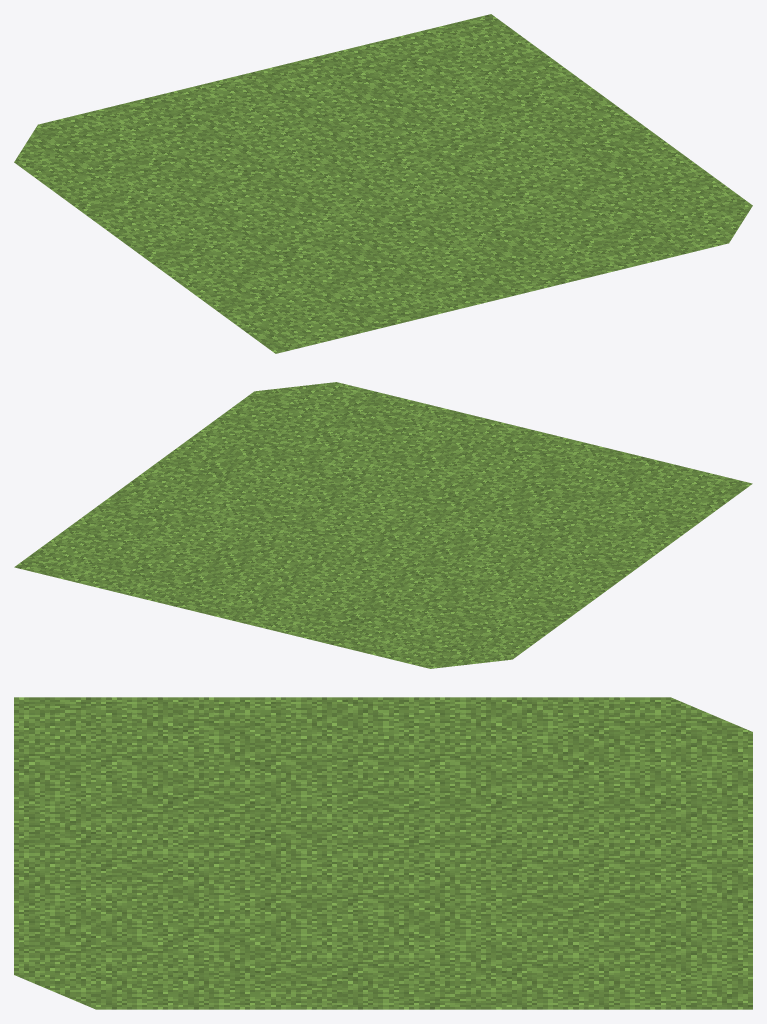
The model's file is Grass_Block_Chunk_51_6.fbx.
The picture shows the model from 3 angles, top to bottom: view 1: azimuth 30°, elevation 25°; view 2: azimuth 150°, elevation 25°; view 3: azimuth 270°, elevation 25°; orthographic projection. The views are drawn at different scales.
Parts seen in each view (by area): view 1: Grass_Block_Chunk_51_6; view 2: Grass_Block_Chunk_51_6; view 3: Grass_Block_Chunk_51_6.
Part boxes in pixels (left/top/right/bottom): Grass_Block_Chunk_51_6: left=14, top=14, right=752, bottom=353; Grass_Block_Chunk_51_6: left=14, top=382, right=752, bottom=668; Grass_Block_Chunk_51_6: left=14, top=697, right=752, bottom=1009.
Size of the model in its own units: 900 by 0 by 900.
Materials: 1 (1 with a texture image).
